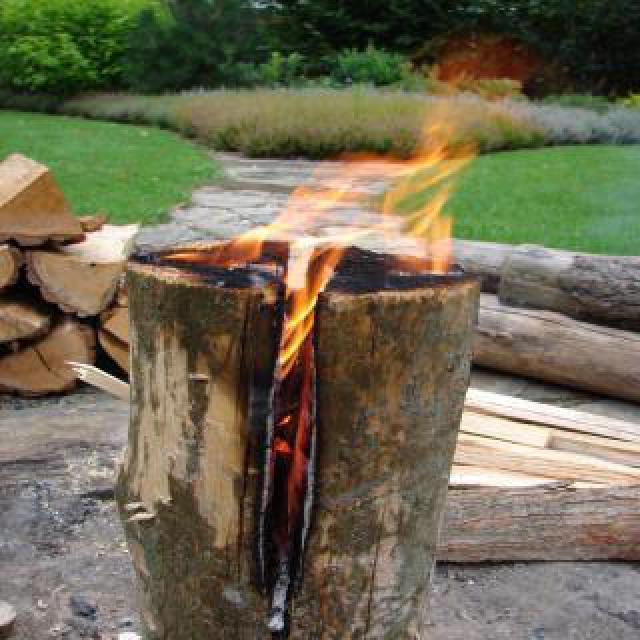Fire: (154, 108, 474, 374)
